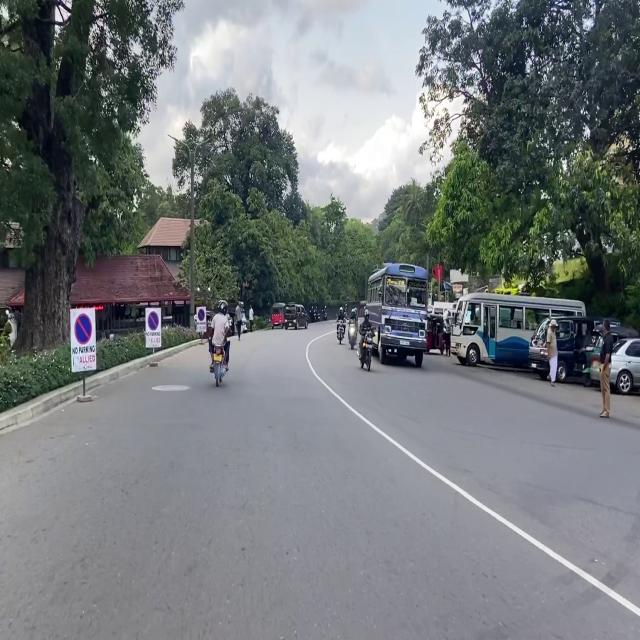bus: (451, 293, 587, 367), (366, 262, 427, 367)
car: (590, 338, 640, 394), (285, 305, 308, 329)
motorcycle: (357, 330, 372, 371), (211, 346, 226, 386), (348, 321, 356, 349), (337, 318, 345, 344), (323, 306, 327, 320)
person: (209, 300, 230, 371), (546, 319, 566, 386), (600, 319, 613, 418), (359, 308, 372, 355), (443, 314, 450, 356), (235, 302, 241, 340), (249, 306, 253, 331), (338, 306, 344, 320), (350, 308, 356, 320)
three wheeler: (582, 319, 637, 385), (427, 305, 444, 353), (229, 304, 247, 335), (271, 303, 285, 328), (205, 311, 213, 338)
van: (529, 316, 602, 382)
